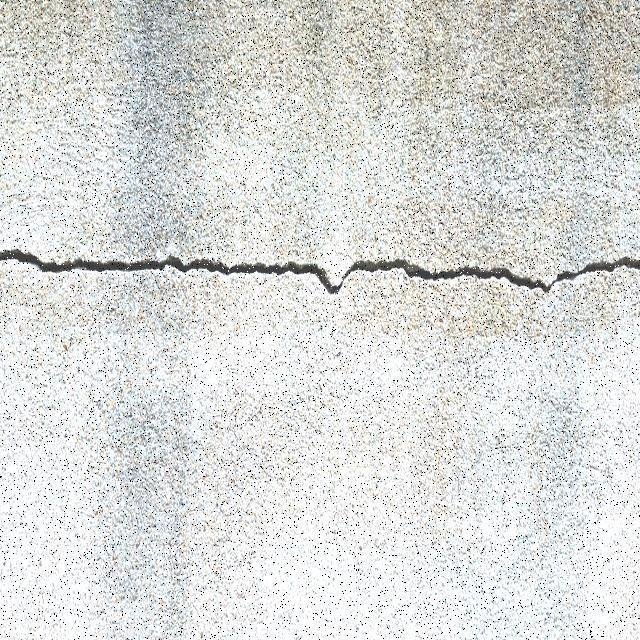Crack: (0, 247, 639, 295)
